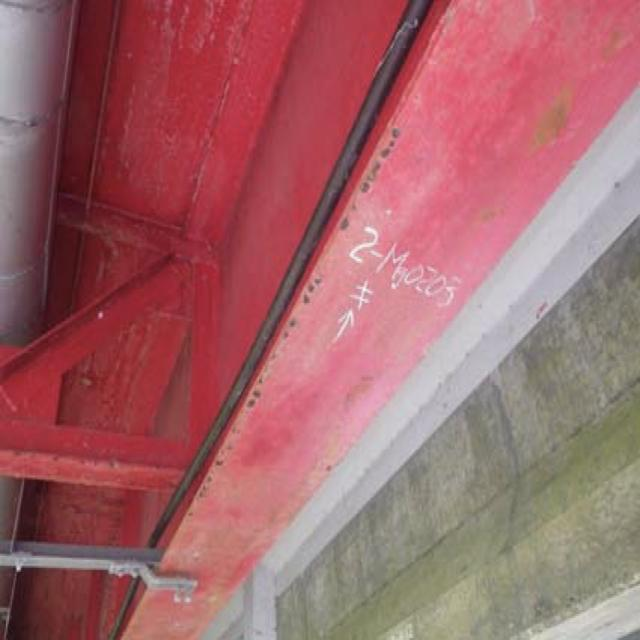corrosion: (512, 66, 587, 163)
